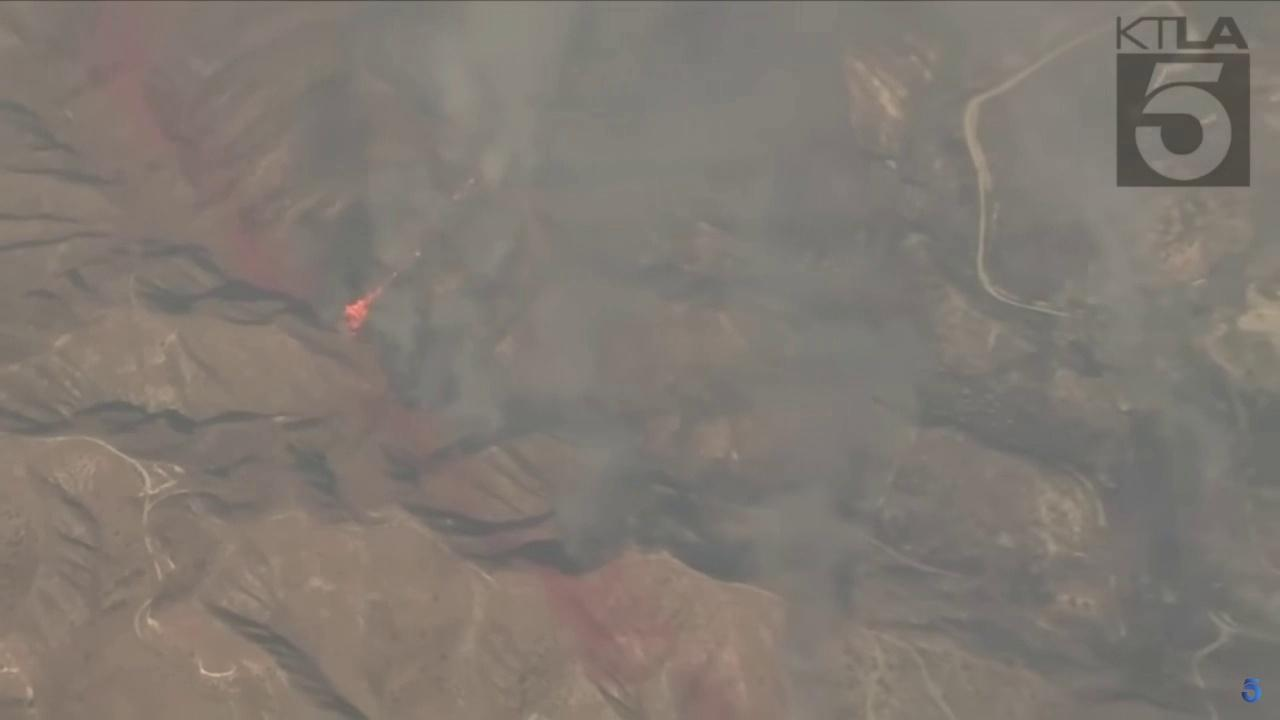fire: (333, 283, 387, 342)
smoke: (297, 0, 943, 720)
